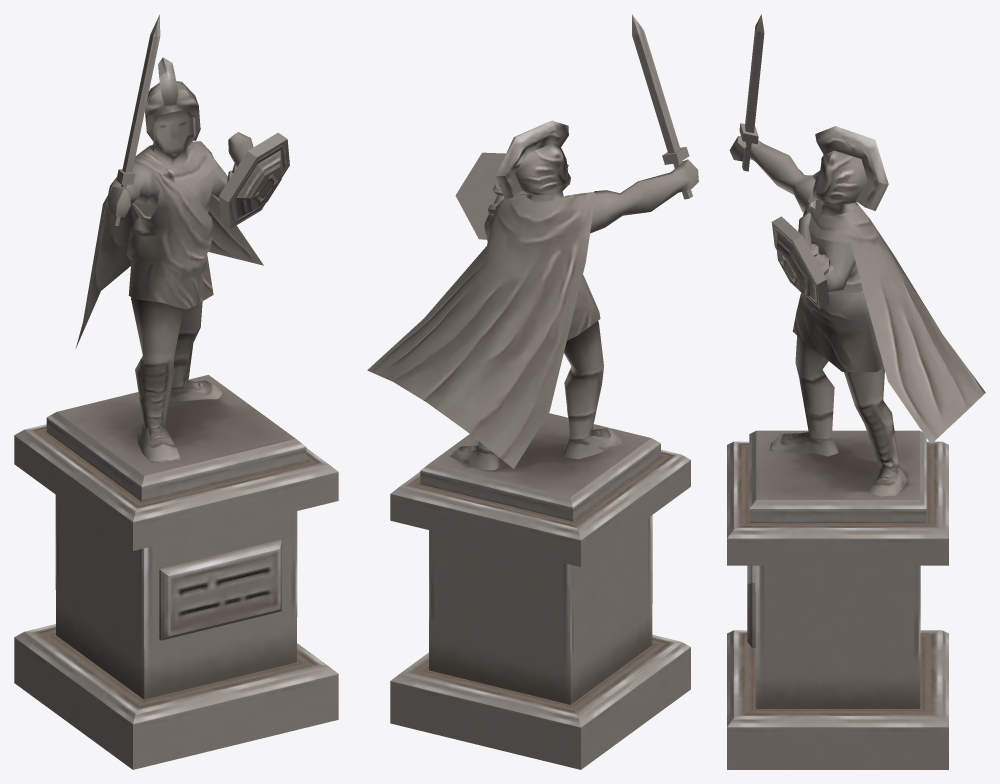
File: HeroStatue_R_HD.fbx
3 views of the same model, side by side, from view 1: azimuth 30°, elevation 25°; view 2: azimuth 150°, elevation 25°; view 3: azimuth 270°, elevation 25° (orthographic). The views are drawn at different scales.
Parts seen in each view (by area): view 1: HeroStatue_R; view 2: HeroStatue_R; view 3: HeroStatue_R.
Boxes of the visible parts, bbox=[...] form: HeroStatue_R: bbox=[14, 14, 338, 769]; HeroStatue_R: bbox=[367, 14, 698, 769]; HeroStatue_R: bbox=[727, 14, 985, 769].
Bounding box in the file's own units: 0.9637 × 2.65 × 0.9111.
